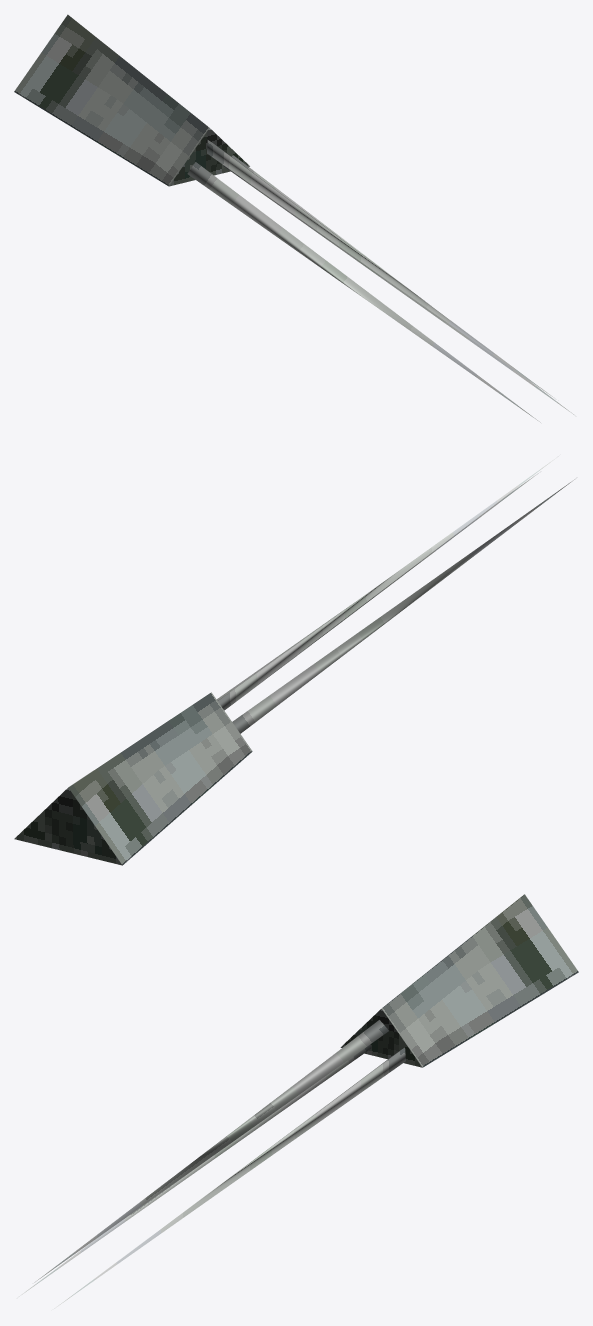
The model's file is bwing_weapon2r_s04_l3.fbx.
3 views of the same model, one above another, from view 1: azimuth 30°, elevation 25°; view 2: azimuth 150°, elevation 25°; view 3: azimuth 330°, elevation 25° (orthographic).
Visible parts, largest first — view 1: mesh_node; view 2: mesh_node; view 3: mesh_node.
Boxes of the visible parts, x1,y1,x2,y2 form: mesh_node: (14,14,573,422); mesh_node: (14,456,574,865); mesh_node: (19,894,578,1308).
Bounding box in the file's own units: 0.3588 × 0.2048 × 2.83.
Materials: 1 (1 with a texture image).
